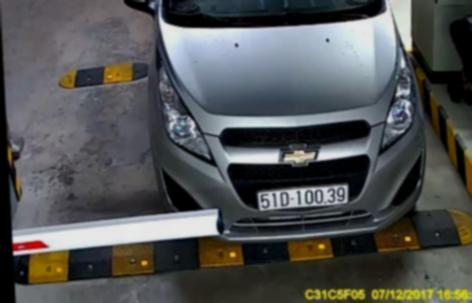License_Plate: (249, 183, 354, 213)
